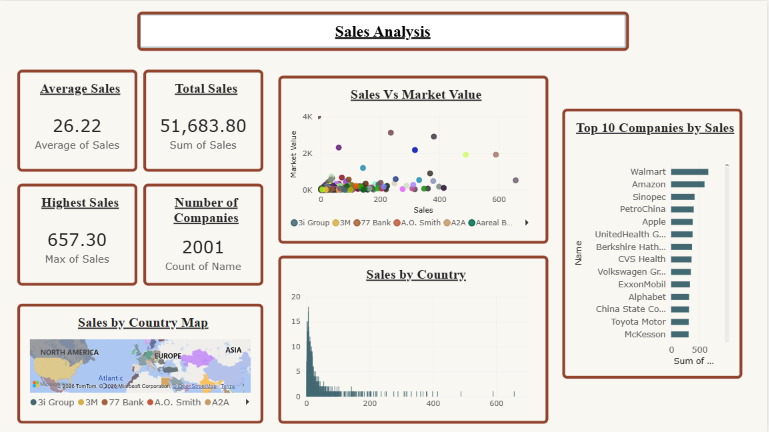

The dashboard page shown, as its layout file describes it:
{"tool":"powerbi","page":{"name":"Page 2","canvas":[1280,720],"ordinal":1},"visuals":[{"type":"card","title":"Total Sales ","fields":{"Values":["Sum(Financial_Performance_Analytics_Cleaned.Sales)"]},"box":[240,115,200,170],"z":0},{"type":"card","title":"Average Sales ","fields":{"Values":["Avg(Financial_Performance_Analytics_Cleaned.Sales)"]},"box":[30,115,200,170],"z":1000},{"type":"card","title":"Highest Sales","fields":{"Values":["Max(Financial_Performance_Analytics_Cleaned.Sales)"]},"box":[30,305,200,170],"z":2000},{"type":"card","title":"Number of Companies ","fields":{"Values":["Count(Financial_Performance_Analytics_Cleaned.Name)"]},"box":[240,305,200,170],"z":3000},{"type":"clusteredBarChart","title":"Top 10 Companies by Sales ","fields":{"Category":["Financial_Performance_Analytics_Cleaned.Name"],"Y":["Sum(Financial_Performance_Analytics_Cleaned.Sales)"]},"box":[937.5,180,300,450],"z":4000},{"type":"clusteredColumnChart","title":"Sales by Country","fields":{"Category":["Financial_Performance_Analytics_Cleaned.Sales"],"Y":["CountNonNull(Financial_Performance_Analytics_Cleaned.Country)"]},"box":[465,425,450,280],"z":5000},{"type":"scatterChart","title":"Sales Vs Market Value","fields":{"Series":["Financial_Performance_Analytics_Cleaned.Name"],"X":["Financial_Performance_Analytics_Cleaned.Sales"],"Y":["Financial_Performance_Analytics_Cleaned.Market Value"]},"box":[465,125,450,280],"z":6000},{"type":"filledMap","title":"Sales by Country Map","fields":{"Category":["Financial_Performance_Analytics_Cleaned.Country"],"Series":["Financial_Performance_Analytics_Cleaned.Name"]},"box":[30,505,410,200],"z":7000},{"type":"shape","box":[230,17.5,819,65],"z":8000}]}

Visuals, with their boxes in screenshot pixels (x1, y1, x2, y2), scaled from the page's 1280x720 canvas onto the 769x432 screenshot:
"Total Sales " card: <box>144,69,264,171</box>
"Average Sales " card: <box>18,69,138,171</box>
"Highest Sales" card: <box>18,183,138,285</box>
"Number of Companies " card: <box>144,183,264,285</box>
"Top 10 Companies by Sales " clusteredBarChart: <box>563,108,743,378</box>
"Sales by Country" clusteredColumnChart: <box>279,255,550,423</box>
"Sales Vs Market Value" scatterChart: <box>279,75,550,243</box>
"Sales by Country Map" filledMap: <box>18,303,264,423</box>
shape: <box>138,10,630,50</box>
